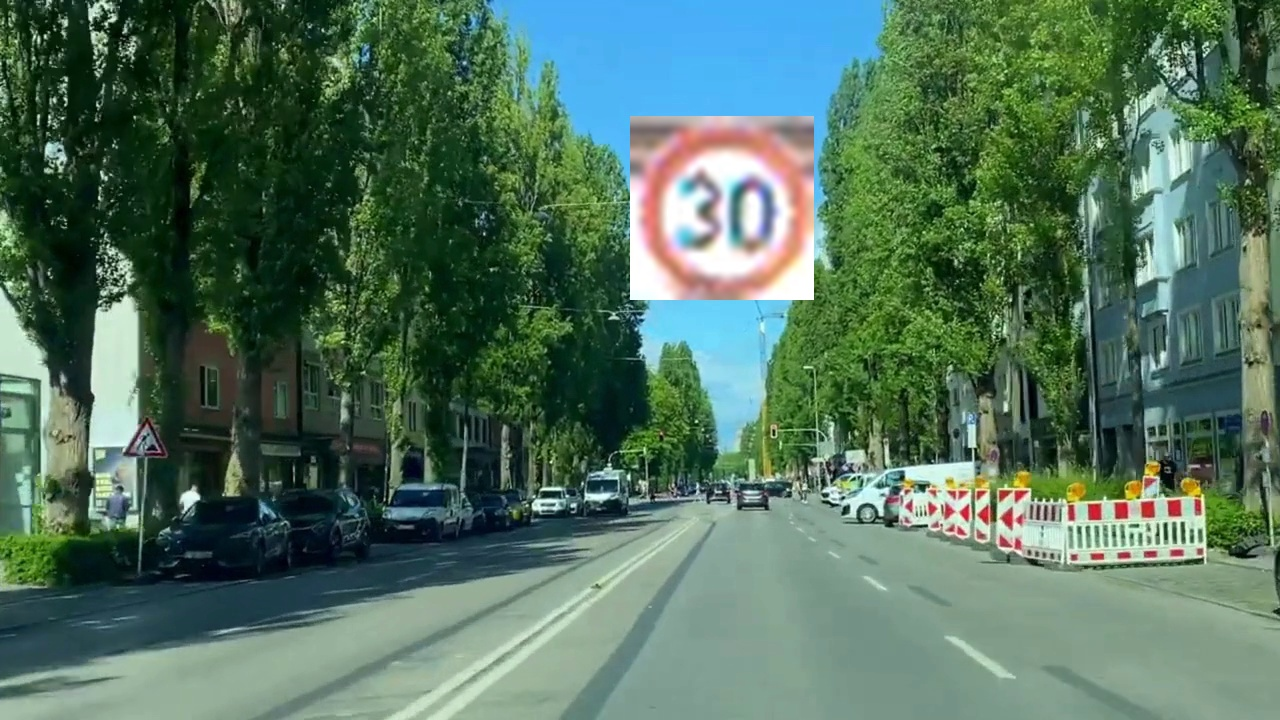Speed 30: (630, 116, 814, 300)
